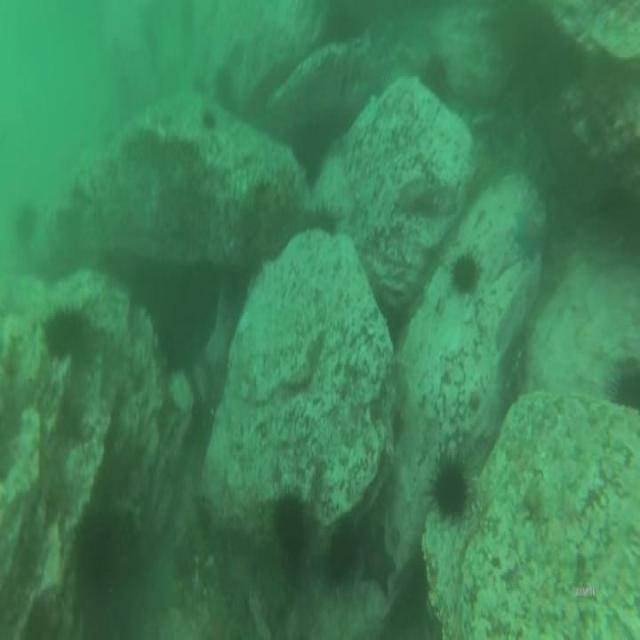echinus: (273, 498, 306, 550), (431, 468, 466, 516), (46, 313, 82, 359), (328, 523, 356, 582), (453, 251, 479, 294)
starfish: (362, 528, 394, 597), (515, 204, 541, 259)
